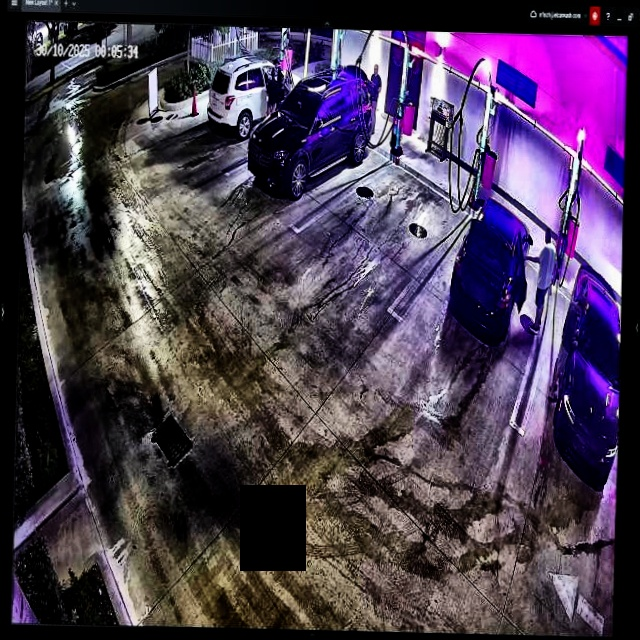Car: (249, 61, 372, 195), (449, 195, 534, 339)
